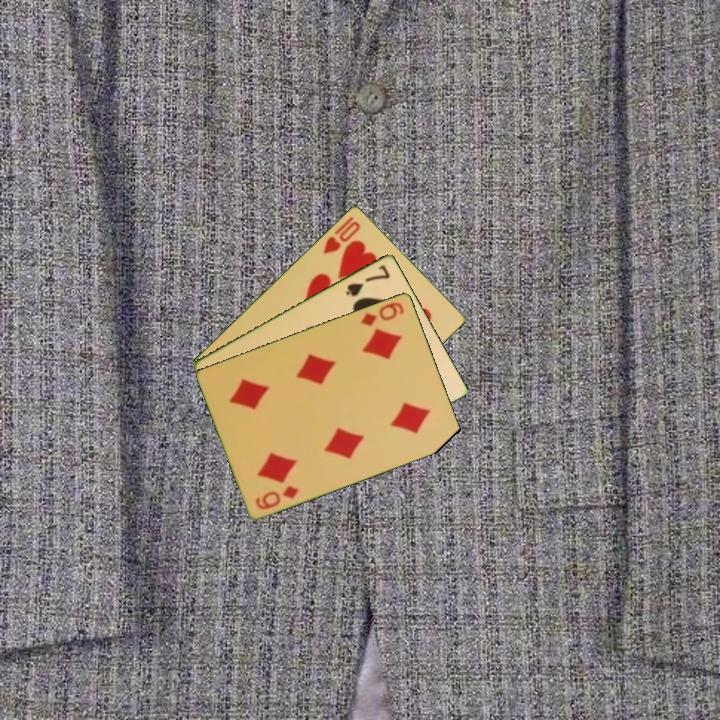10h: (319, 212, 363, 257)
6d: (357, 298, 407, 329), (252, 481, 302, 512)
7s: (342, 261, 393, 300)
